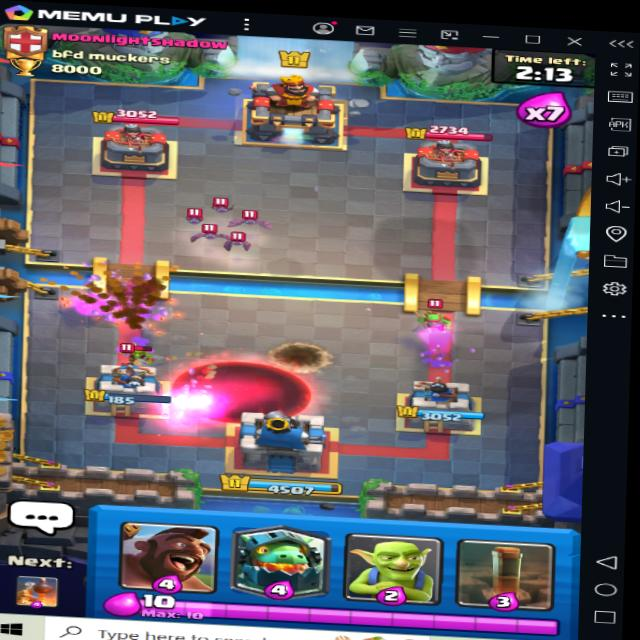bats: (175, 208, 218, 227), (233, 205, 263, 232), (187, 225, 230, 243), (215, 233, 252, 252), (205, 197, 237, 217)
goblin: (120, 345, 154, 369)
spear-goblin: (418, 297, 458, 330)
void: (166, 356, 313, 428)
